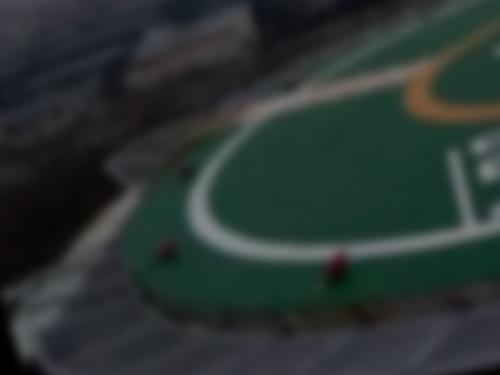Apron: (402, 15, 500, 122)
